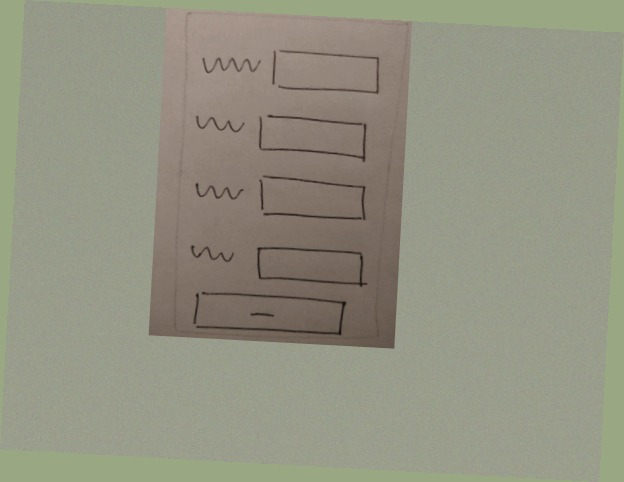button: (188, 286, 350, 341)
text: (195, 49, 265, 79), (187, 175, 248, 207), (192, 108, 248, 142), (185, 238, 238, 270)
text_input: (267, 42, 387, 103), (253, 107, 373, 166), (253, 170, 374, 227), (253, 241, 374, 292)
